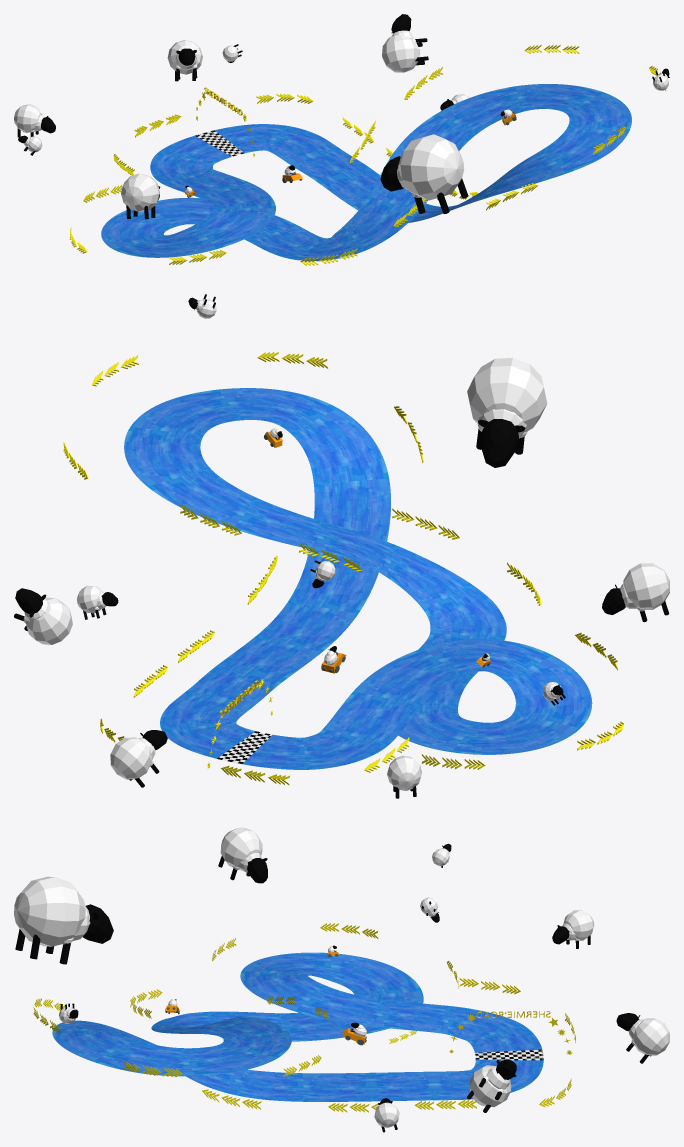
File: ShermieRoadTrack.glb
3 renders of one model, top to bottom at view 1: azimuth 30°, elevation 25°; view 2: azimuth 150°, elevation 25°; view 3: azimuth 270°, elevation 25°, orthographic. The views are drawn at different scales.
Parts seen in each view (by area): view 1: track, R, arrowSide2, RT, arrowSide1, H, EI, S; view 2: track, R, arrowSide2, arrowSide1, H, RT, EI, S, E; view 3: track, R, arrowSide1, H, arrowSide2, RT, EI, S, E.
Part boxes in pixels (box(x1,y1,x2,y2)): track: box(101, 84, 631, 261); R: box(380, 134, 468, 213); arrowSide2: box(69, 44, 666, 264); RT: box(382, 14, 428, 72); arrowSide1: box(113, 93, 478, 265); H: box(121, 173, 160, 219); EI: box(167, 40, 202, 81); S: box(14, 104, 55, 137); track: box(124, 388, 592, 769); R: box(467, 357, 547, 467); arrowSide2: box(63, 352, 623, 769); arrowSide1: box(100, 508, 541, 784); H: box(602, 563, 669, 622); RT: box(14, 588, 72, 644); EI: box(110, 730, 167, 787); S: box(387, 755, 421, 798); E: box(77, 585, 118, 619); track: box(52, 952, 543, 1101); R: box(14, 876, 113, 964); arrowSide1: box(130, 977, 575, 1112); H: box(218, 827, 267, 883); arrowSide2: box(33, 923, 458, 1077); RT: box(467, 1059, 516, 1112); EI: box(616, 1013, 669, 1063); S: box(552, 910, 594, 948); E: box(374, 1098, 399, 1132).
Size of the model in its own units: 156 by 48.52 by 160.
Materials: 33 (23 with a texture image).
